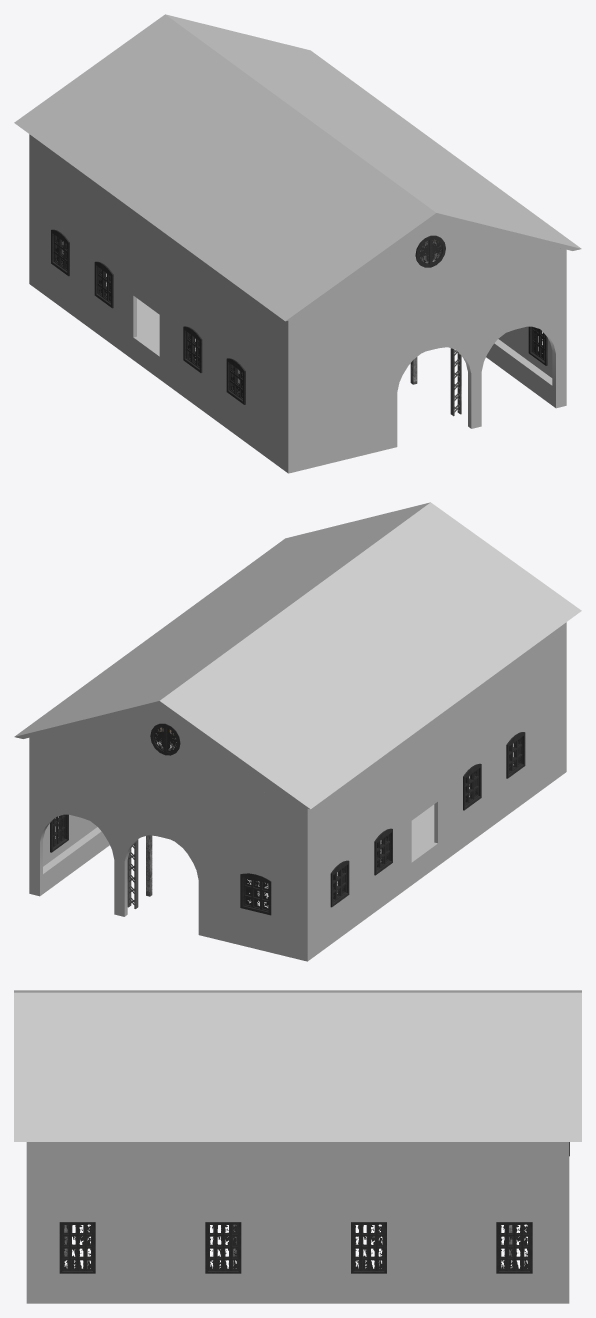
Rendered from Passenger Patio.fbx.
The picture shows the model from 3 angles, top to bottom: view 1: azimuth 30°, elevation 25°; view 2: azimuth 150°, elevation 25°; view 3: azimuth 270°, elevation 25°; orthographic projection. The views are drawn at different scales.
Visible parts, largest first — view 1: Cube.016, Cube, Cube.012, Cylinder.001, Cube.041, Cube.021; view 2: Cube.016, Cube, Cube.012, Cube.033, Cylinder.001, Cube.041, Cube.021; view 3: Cube.016, Cube, Cube.021.
Part boxes in pixels (x1,y1,x2,y2): Cube.016: (14,14,581,321); Cube: (29,134,566,473); Cube.012: (51,229,245,404); Cylinder.001: (415,235,445,267); Cube.041: (450,348,461,416); Cube.021: (528,326,547,365); Cube.016: (14,502,581,809); Cube: (29,622,566,961); Cube.012: (330,732,525,907); Cube.033: (240,873,271,915); Cylinder.001: (150,723,180,755); Cube.041: (127,839,138,908); Cube.021: (50,814,68,852); Cube.016: (14,990,581,1141); Cube: (26,1142,569,1303); Cube.021: (59,1222,532,1273).
Bounding box in the file's own units: 1986 × 1474 × 3144.
